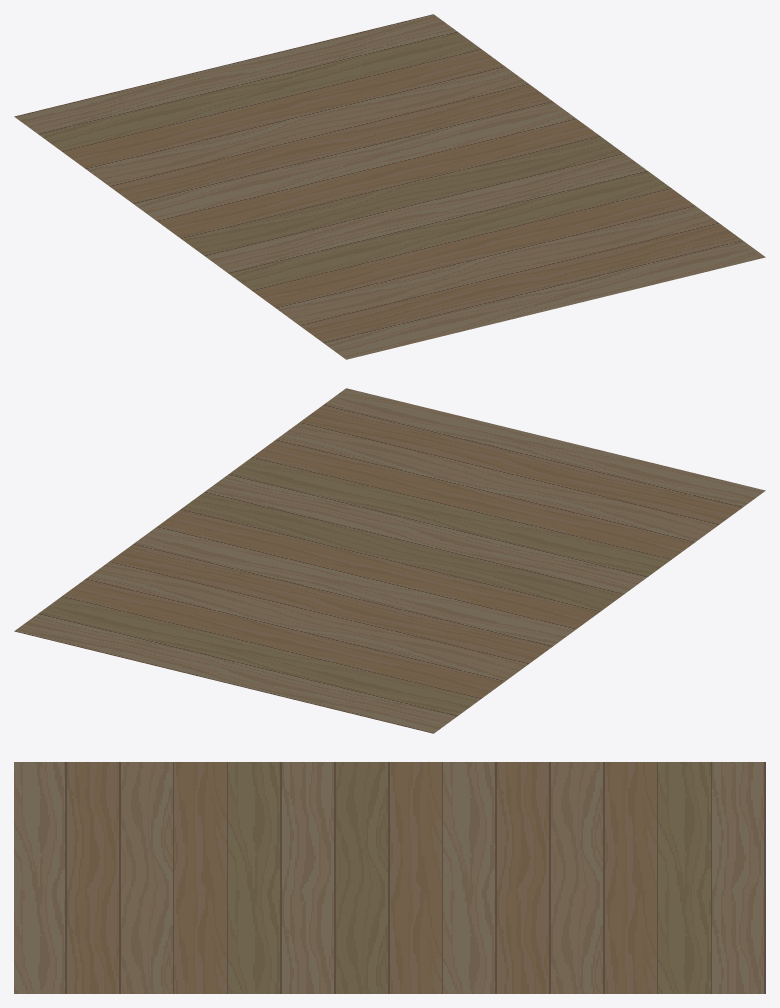
The model's file is kd_stage_135c43_4_22_bounded_piece_4.glb.
The picture shows the model from 3 angles, top to bottom: view 1: azimuth 30°, elevation 25°; view 2: azimuth 150°, elevation 25°; view 3: azimuth 270°, elevation 25°; orthographic projection. The views are drawn at different scales.
Parts seen in each view (by area): view 1: kd_stage_135c43_4_22_bounded_piece_4; view 2: kd_stage_135c43_4_22_bounded_piece_4; view 3: kd_stage_135c43_4_22_bounded_piece_4.
Part boxes in pixels (x1,y1,x2,y2): kd_stage_135c43_4_22_bounded_piece_4: (14, 14, 765, 359); kd_stage_135c43_4_22_bounded_piece_4: (14, 388, 765, 733); kd_stage_135c43_4_22_bounded_piece_4: (14, 762, 765, 993).
Size of the model in its own units: 1.3 by 4.64e-05 by 1.78.
1 material, 1 textured.
